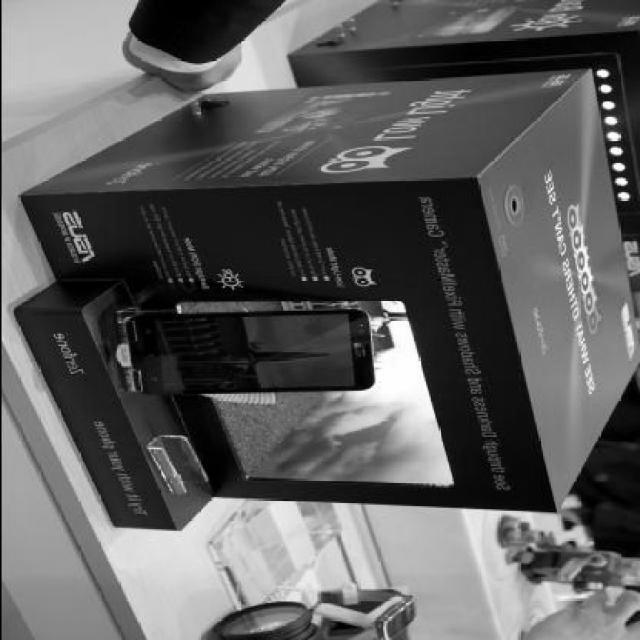fake: (126, 306, 388, 402), (377, 597, 415, 640)
